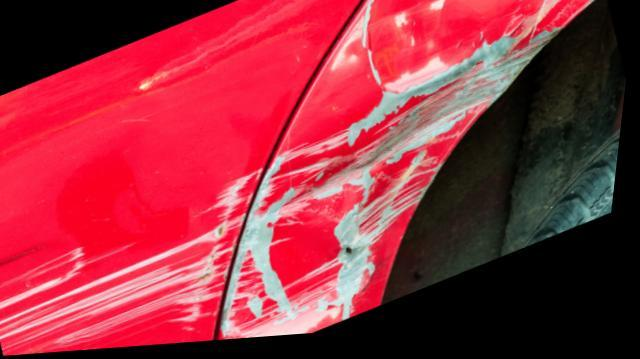dent: (231, 43, 537, 343)
scratch: (0, 167, 270, 356)
